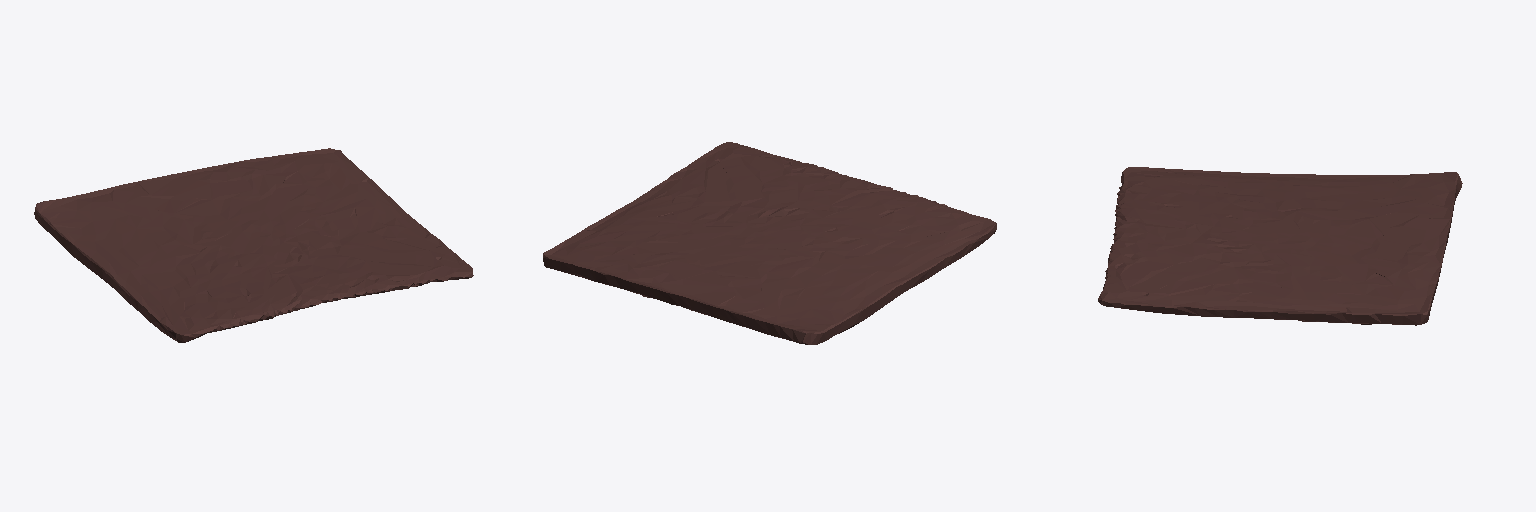
Rendered from phantom_collision.OBJ.
3 renders of one model, left to right at view 1: azimuth 30°, elevation 25°; view 2: azimuth 150°, elevation 25°; view 3: azimuth 270°, elevation 25°, orthographic.
Visible parts, largest first — view 1: phantom_collision_phantom.003; view 2: phantom_collision_phantom.003; view 3: phantom_collision_phantom.003.
Part boxes in pixels (x1,y1,x2,y2): phantom_collision_phantom.003: (34,148,473,342); phantom_collision_phantom.003: (543,142,996,344); phantom_collision_phantom.003: (1098,167,1462,325).
Size of the model in its own units: 1.3 by 0.1684 by 1.33.